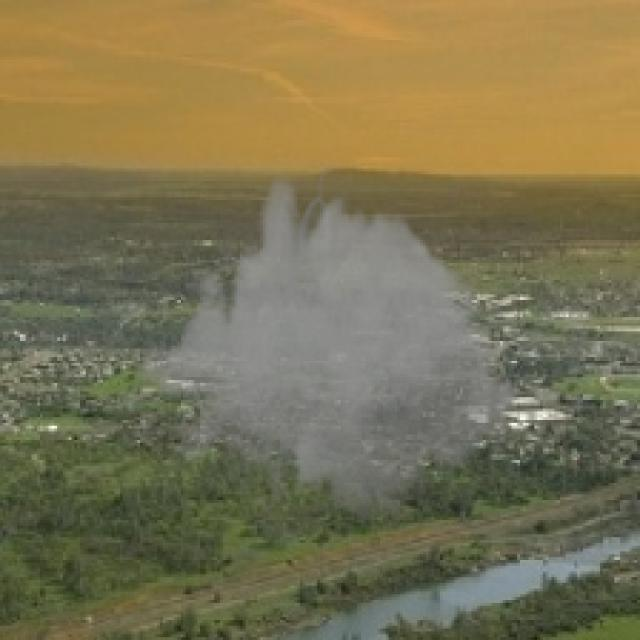smoke: (134, 160, 520, 554)
